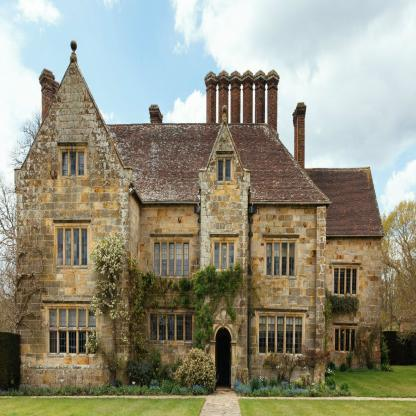Building Outline: (14, 40, 386, 392)
Cornice: (42, 299, 99, 303), (254, 307, 309, 311), (146, 308, 196, 312), (150, 234, 192, 238), (54, 220, 90, 224), (263, 234, 299, 238), (330, 263, 362, 267), (209, 234, 239, 238), (58, 143, 87, 147), (334, 322, 358, 326), (216, 151, 233, 155)
Dont: (124, 347, 217, 395)
Door Hole: (215, 327, 232, 391)
Facade: (17, 202, 378, 391)
Floor: (17, 207, 381, 299)
Floor Slab: (17, 299, 381, 305), (17, 201, 326, 208)
Ground Floor: (17, 305, 381, 387)
Roof: (106, 124, 386, 236)
Top Floor: (17, 124, 326, 201)
Window: (295, 316, 303, 353), (259, 316, 266, 353), (268, 316, 275, 353), (286, 316, 293, 353), (278, 316, 284, 353), (82, 229, 88, 265), (73, 229, 79, 265), (66, 229, 72, 265), (57, 229, 63, 265), (49, 331, 57, 353), (185, 315, 192, 340), (150, 315, 157, 340), (159, 315, 166, 340), (184, 243, 189, 275), (155, 243, 160, 275), (162, 243, 167, 275), (169, 243, 174, 275), (176, 243, 181, 275), (290, 243, 295, 275), (267, 243, 272, 275), (274, 243, 279, 275), (282, 243, 287, 275), (79, 332, 86, 354), (89, 332, 96, 354), (59, 331, 66, 353), (168, 315, 174, 340), (177, 315, 183, 340), (69, 332, 76, 353), (88, 310, 96, 328), (79, 153, 85, 175), (62, 153, 68, 175), (352, 268, 357, 294), (346, 268, 351, 294), (69, 310, 76, 328), (79, 310, 86, 328), (229, 243, 234, 268), (215, 243, 220, 268), (222, 243, 227, 268), (50, 310, 57, 327), (60, 310, 67, 327), (71, 153, 76, 175), (334, 268, 338, 294), (340, 268, 344, 294), (226, 161, 231, 181), (218, 161, 223, 181), (352, 329, 356, 350), (335, 329, 339, 350), (346, 329, 350, 350), (341, 329, 344, 350)
object: (218, 336, 229, 386)
